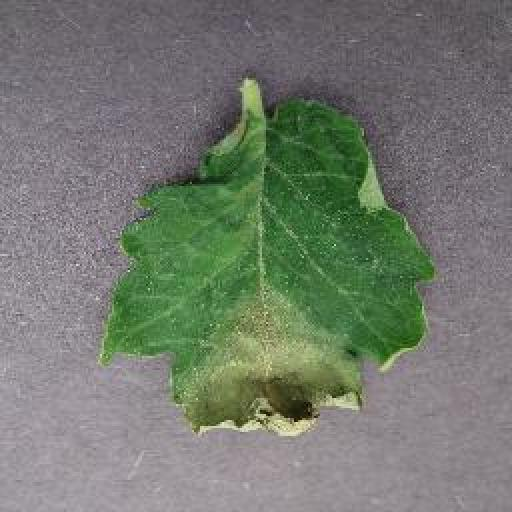Late Blight: (96, 92, 435, 441)
